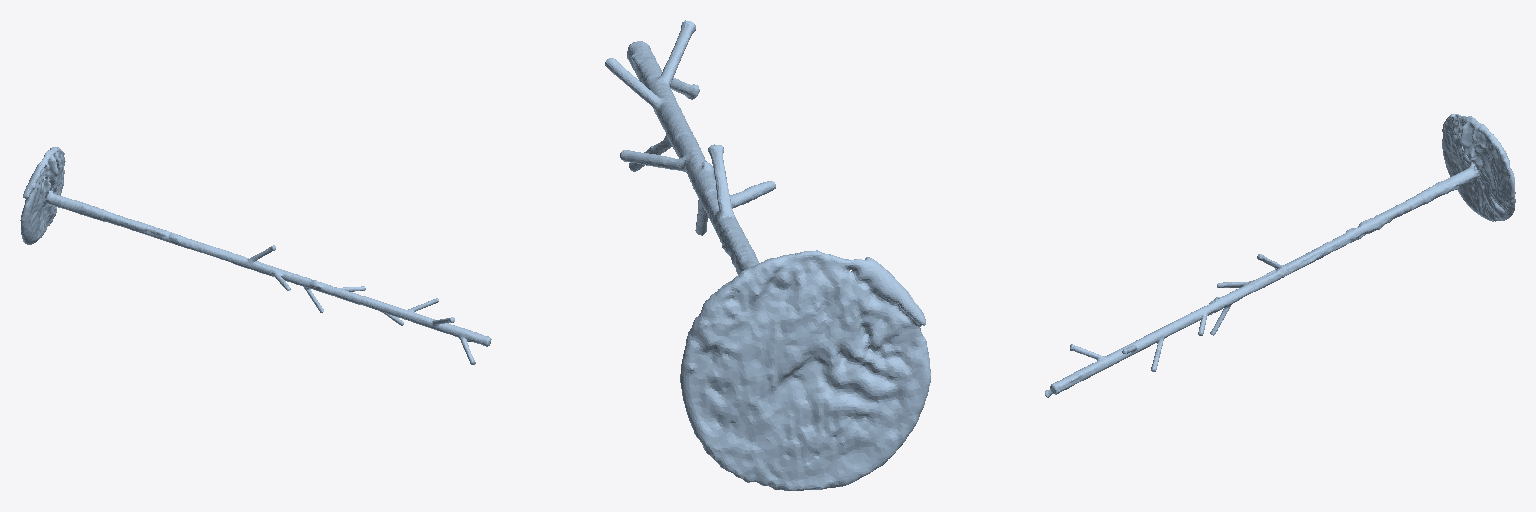
robot.urdf — clothesstand.urdf:
<?xml version="1.0" ?>
<robot name="clothesstand.urdf">
  <dynamics damping="0.5" friction="0.9"/>
  <link name="baseLink">
    <contact>
      <lateral_friction value="0.9"/>
      <rolling_friction value="0.5"/>
      <stiffness value="30000"/>
      <damping value="1000"/>
    </contact>
    <visual>
      <origin rpy="0 0 0" xyz="0 0 0"/>
      <geometry>
        <mesh filename="objects/clothesstand/clothesstand.obj" scale="1.0 1.0 1.0"/>
      </geometry>
       <material name="mat">
        <color rgba="0.7 0.8 0.9 1"/>
      </material>
    </visual>
    <collision>
      <origin rpy="0 0 0" xyz="0 0 0"/>
      <geometry>
	 	<mesh filename="objects/clothesstand/clothesstand.obj" scale="1.0 1.0 1.0"/>
      </geometry>
    </collision>
  </link>
</robot>

--- Facts derived from the render (not from the file) ---
3 views of the same robot in one strip: view 1: azimuth 30°, elevation 25°; view 2: azimuth 150°, elevation 25°; view 3: azimuth 270°, elevation 25° (orthographic).
Robot: clothesstand.urdf — 1 links, 0 joints (none); root link baseLink; default pose: every joint at zero.
Visible links, largest first — view 1: baseLink; view 2: baseLink; view 3: baseLink.
Link boxes in pixels (x1,y1,x2,y2): baseLink: (20,147,491,364); baseLink: (605,20,930,490); baseLink: (1045,114,1515,397).
Size in the robot's own frame: 1.23 by 1.5 by 0.5268 metres.
1 mesh visuals loaded from 1 distinct referenced files (1 OBJ).